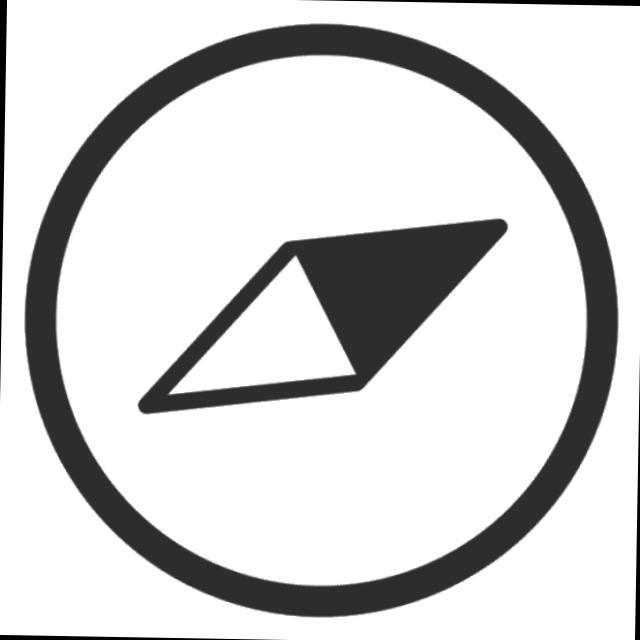compass: (5, 9, 632, 634)
